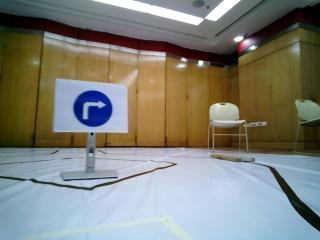right: (65, 83, 123, 130)
